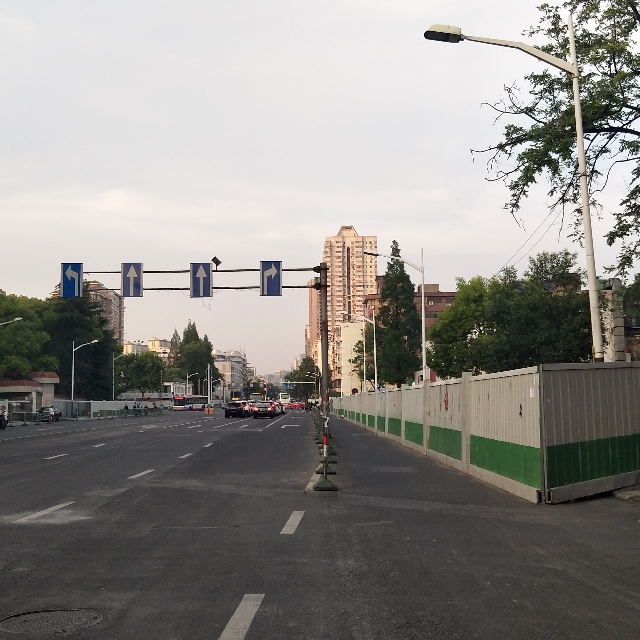left: (61, 262, 83, 297)
right: (260, 261, 282, 296)
straight: (190, 263, 213, 299), (121, 263, 144, 297)
